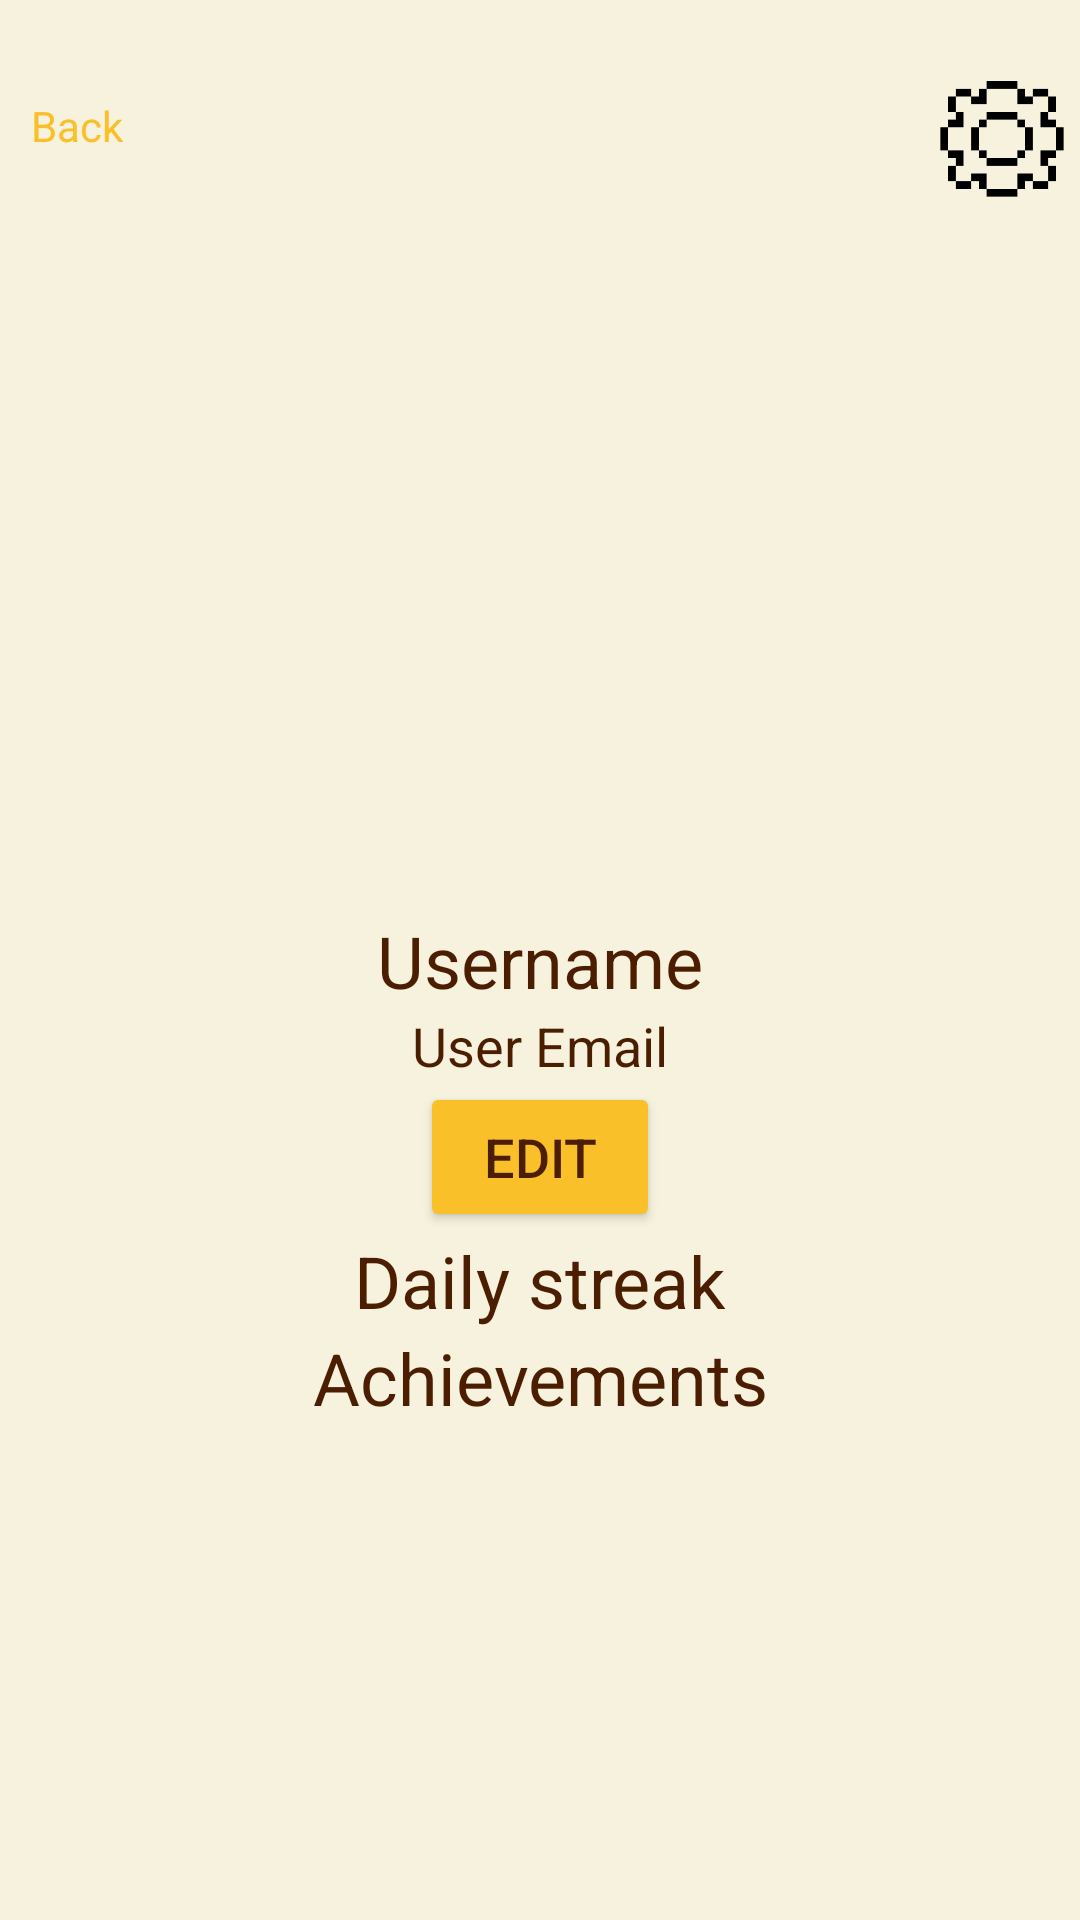

Where to tap for icons on this 1080px x 1920px app screen, as (x,y):
cogicon: (1002,139)
